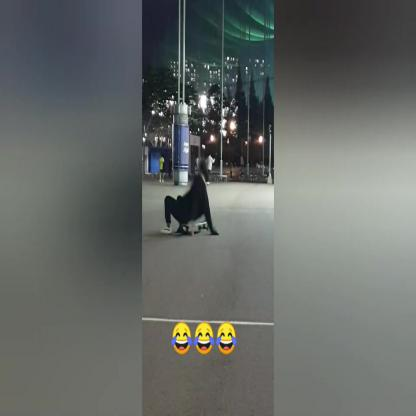Fall_Down: (156, 160, 222, 240)
